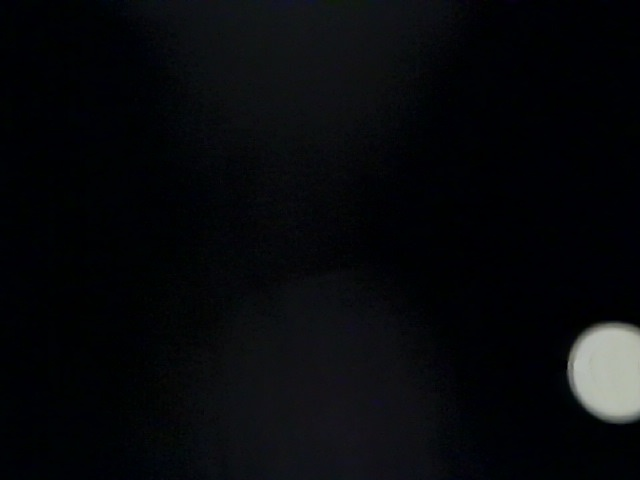CYLJ: (500, 109, 640, 403)
